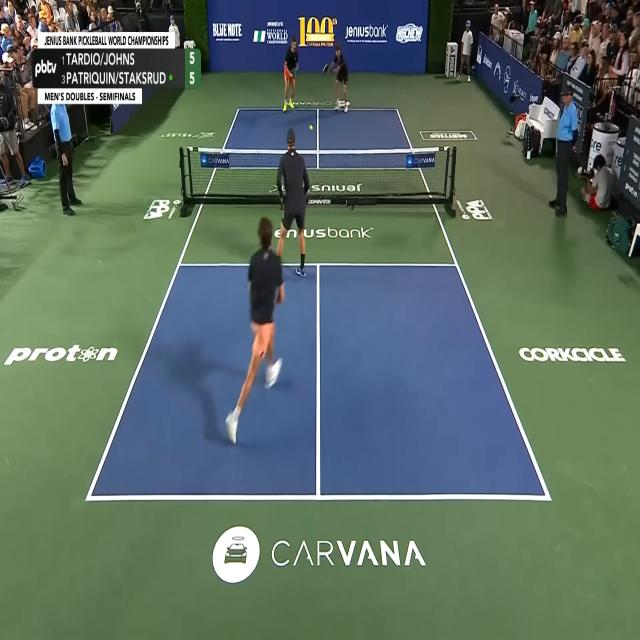ball: (309, 124, 313, 130)
